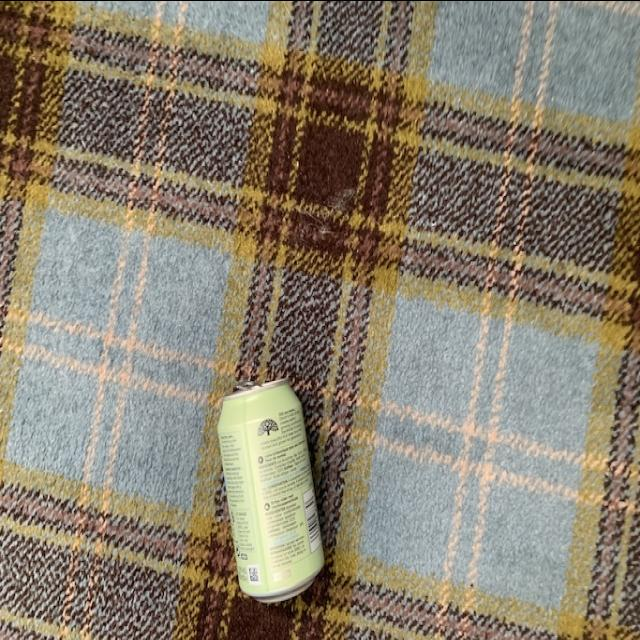litter: (216, 374, 334, 602)
